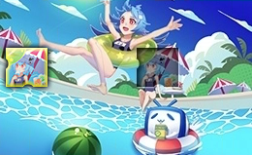gap: (137, 48, 178, 87)
